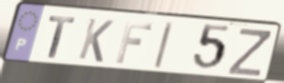5: (191, 24, 234, 76)
F: (114, 20, 155, 65)
I: (152, 21, 176, 71)
K: (76, 16, 116, 64)
T: (47, 15, 77, 60)
Z: (225, 27, 273, 79)
